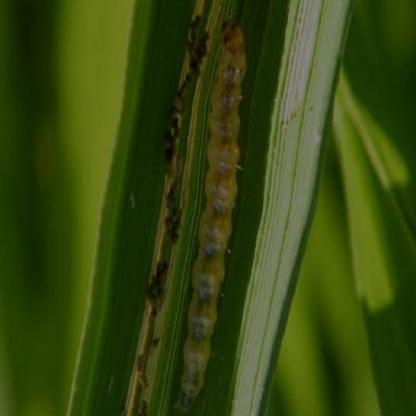leaf-folder: (175, 30, 262, 402)
